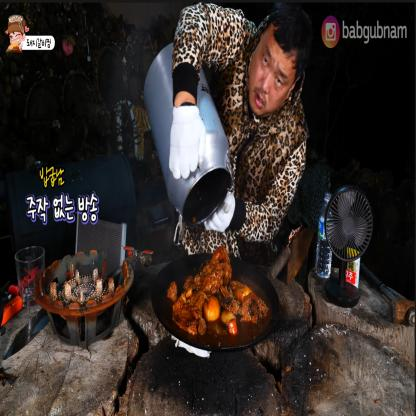streamer: (142, 2, 309, 258)
